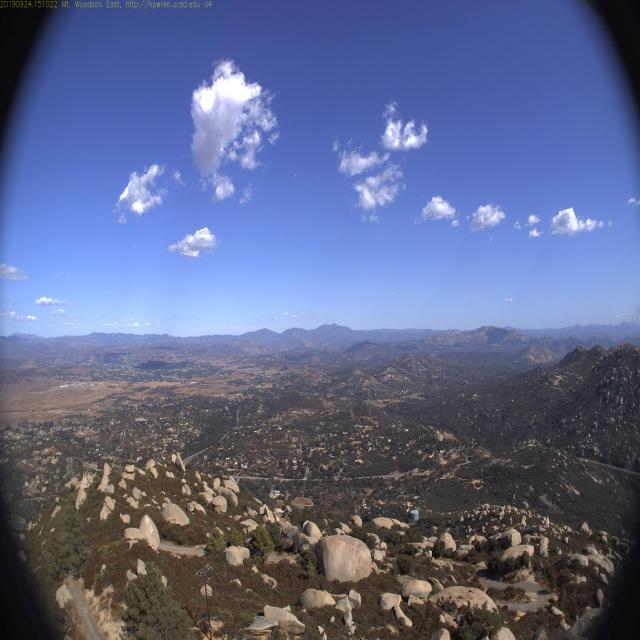smoke: (618, 301, 640, 335)
